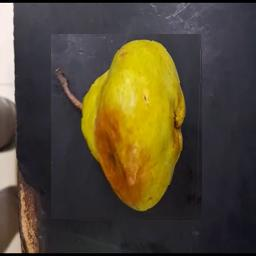Pear Rotten: (52, 35, 203, 221)
